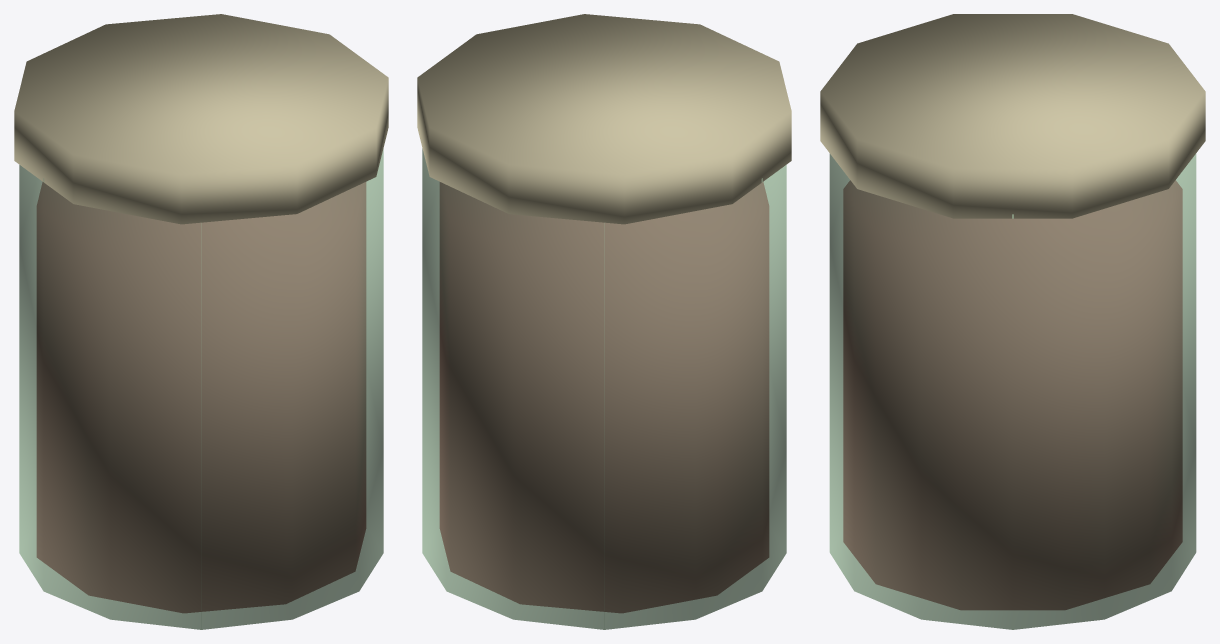
Rendered from jam.glb.
3 views of the same model, side by side, from view 1: azimuth 30°, elevation 25°; view 2: azimuth 150°, elevation 25°; view 3: azimuth 270°, elevation 25° (orthographic).
Visible parts, largest first — view 1: Item; view 2: Item; view 3: Item.
Boxes of the visible parts, box(x1,y1,x2,y2) form: Item: box(14, 14, 388, 629); Item: box(417, 14, 791, 629); Item: box(820, 14, 1205, 629).
Bounding box in the file's own units: 0.08 × 0.111 × 0.084.
